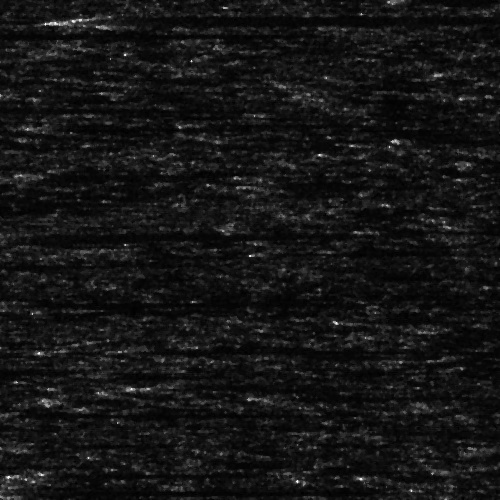object: (0, 10, 125, 27), (97, 380, 212, 391), (0, 167, 82, 180), (232, 390, 305, 403), (0, 483, 49, 498), (0, 407, 45, 418), (449, 2, 500, 11), (4, 121, 67, 128), (26, 469, 89, 474), (394, 137, 425, 142), (0, 259, 12, 270), (52, 72, 63, 79)
shadow: (62, 10, 478, 27), (0, 98, 235, 117), (0, 483, 261, 498), (0, 407, 260, 418), (0, 229, 283, 238), (269, 390, 456, 403), (36, 121, 370, 128), (40, 167, 208, 180), (0, 30, 193, 41), (155, 380, 336, 391), (0, 259, 121, 270), (57, 72, 223, 79), (57, 469, 242, 474), (263, 248, 439, 253), (410, 137, 500, 142)
